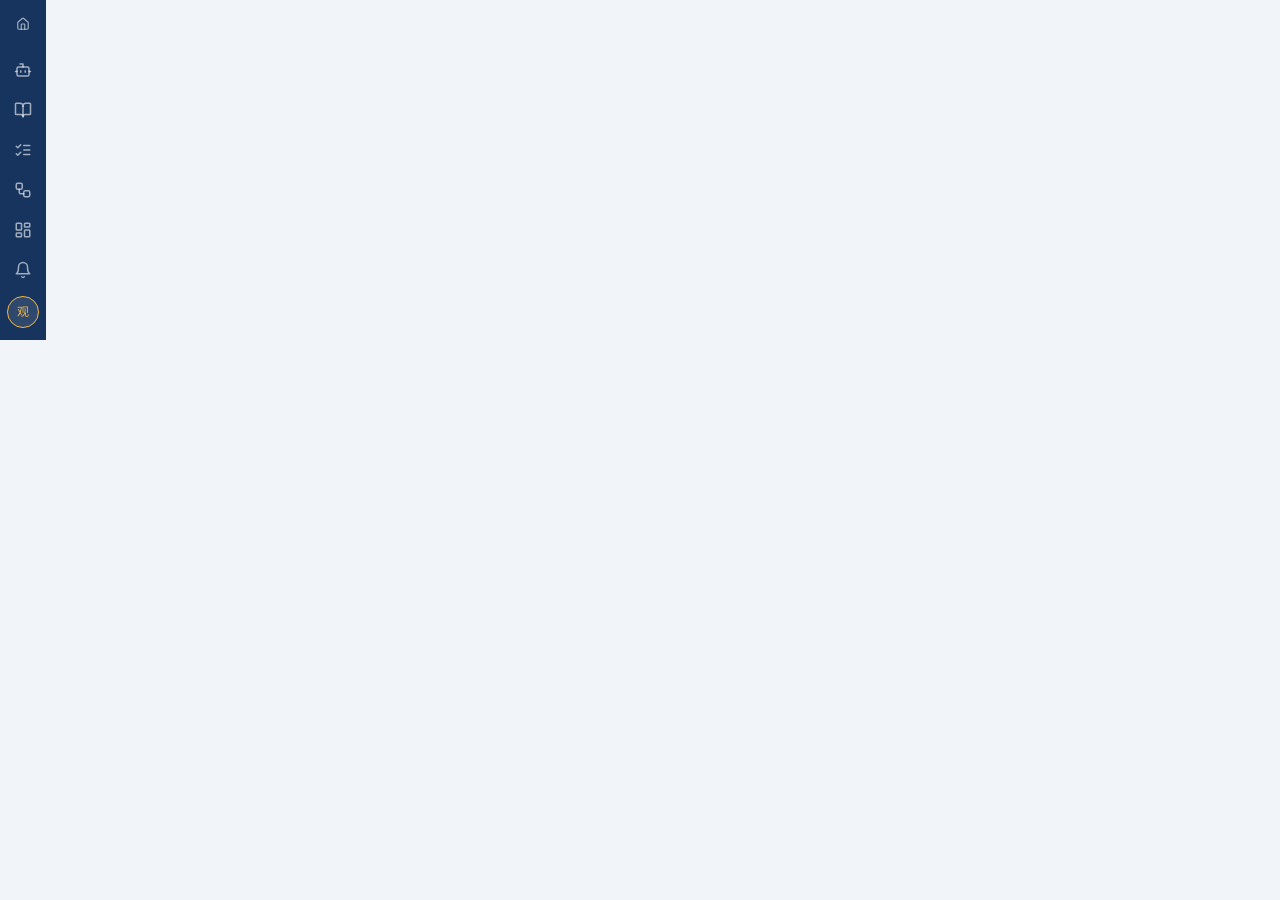
it: Rail · 提醒铃弹层（B-27；W10 / T2-49 接真实待办 + D-10 文案 i18n 化） › 文案走 i18n：切英文后铃铛 aria-label / 标题 / 空态均为英文
The width and height of the screenshot is (1280, 900).
Click the button with test id "rail-bell": x=23, y=270 x1=5 y1=252 x2=41 y2=288
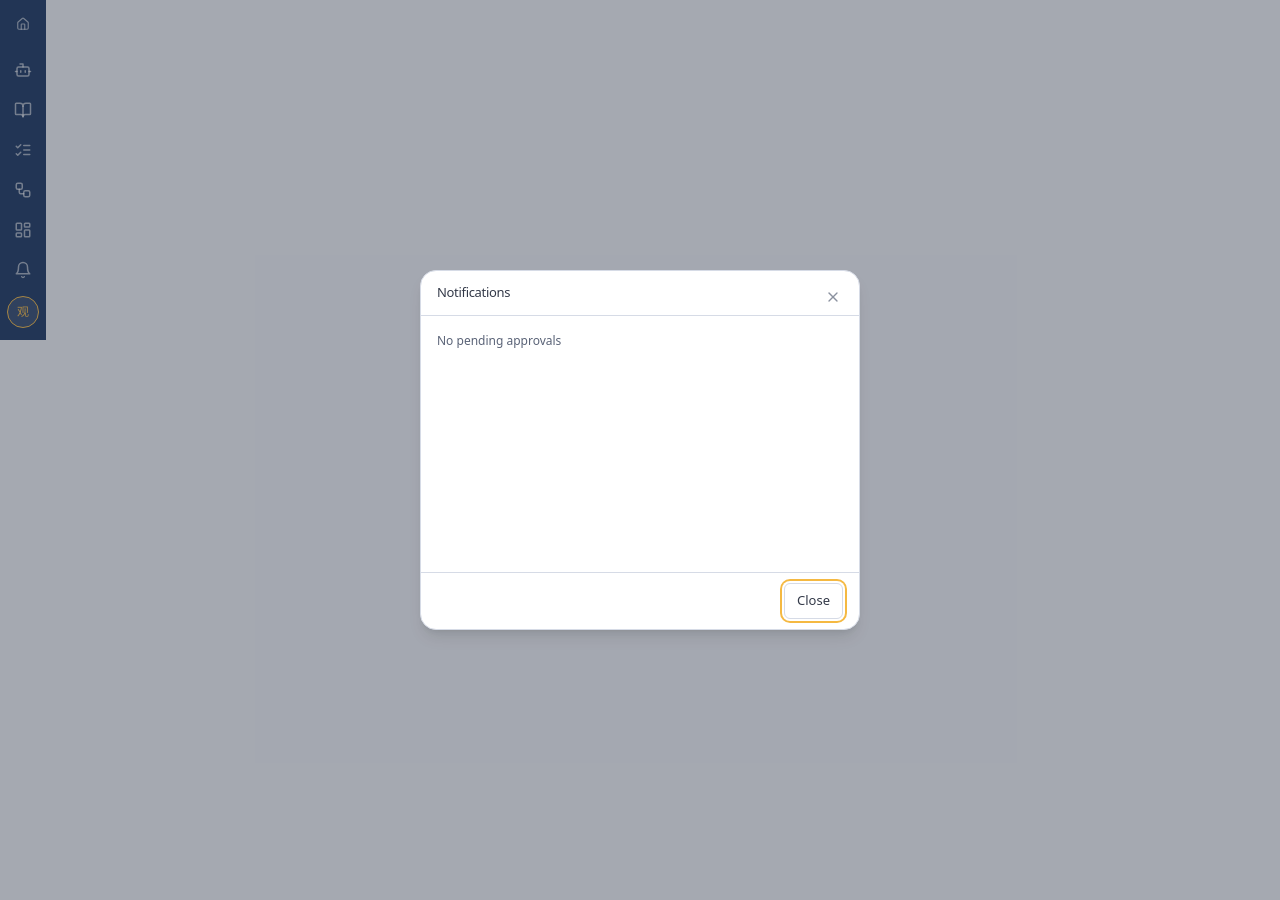
Expected: the text with test id "rail-notifications-empty" reads "No pending approvals", x1=437 y1=332 x2=561 y2=348
Expected: the button with test id "rail-notifications-close" reads "Close", x1=784 y1=583 x2=843 y2=619
